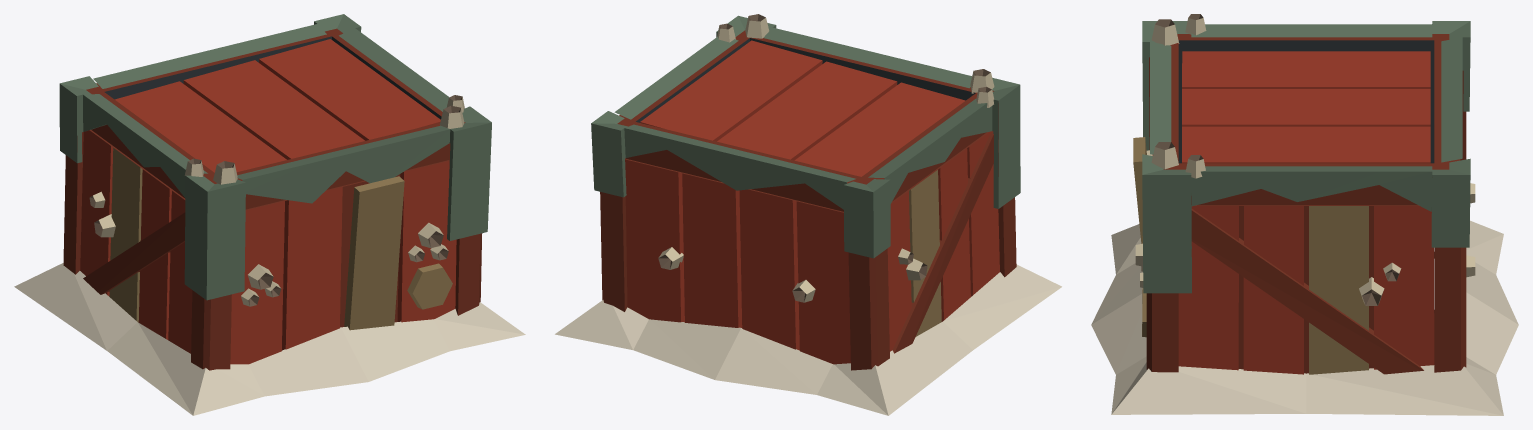
Rendered from encrusted-cargo-crate-ce0760.glb.
The picture shows the model from 3 angles, left to right: view 1: azimuth 30°, elevation 25°; view 2: azimuth 150°, elevation 25°; view 3: azimuth 270°, elevation 25°; orthographic projection. The views are drawn at different scales.
Visible parts, largest first — view 1: crate-body, lid-panel; view 2: crate-body, lid-panel; view 3: crate-body, lid-panel.
Boxes of the visible parts, box(x1,y1,x2,y2) form: crate-body: box(14, 14, 525, 415); lid-panel: box(115, 39, 440, 172); crate-body: box(555, 14, 1061, 415); lid-panel: box(640, 40, 965, 176); crate-body: box(1091, 14, 1518, 415); lid-panel: box(1182, 51, 1430, 163).
Bounding box in the file's own units: 1.21 × 0.76 × 1.2.
